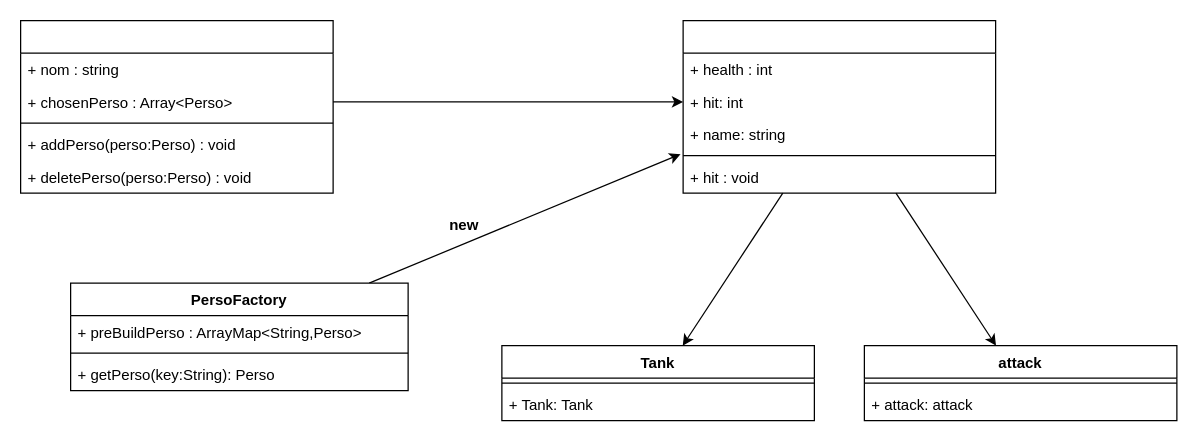
Image size: 1198x441. Some labels were removed from this diagram. The shapes that lost their labels are listed below. From the top down, each one's box as (x1, y1, x2, y2) in pixels, then its label:
(19, 19, 333, 193): Joueur
(682, 19, 996, 193): Perso
